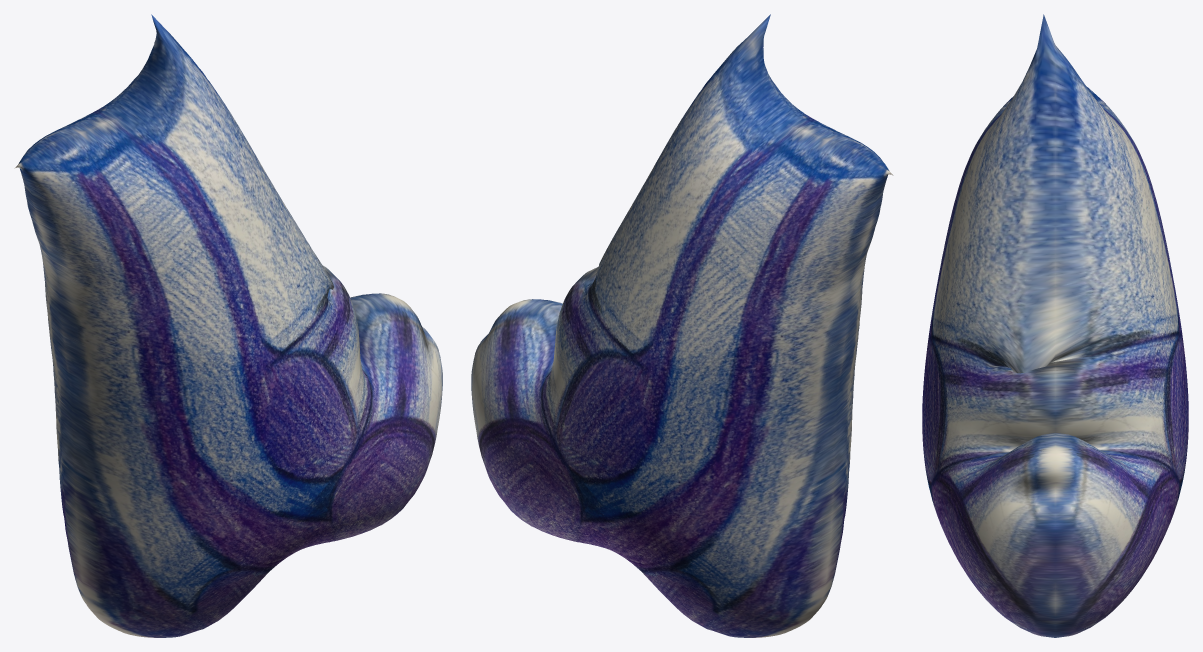
File: rlatpgml430.glb
The picture shows the model from 3 angles, left to right: view 1: azimuth 30°, elevation 25°; view 2: azimuth 150°, elevation 25°; view 3: azimuth 270°, elevation 25°; orthographic projection. The views are drawn at different scales.
Size of the model in its own units: 5.63 by 8.05 by 3.34.
1 material, 1 textured.
